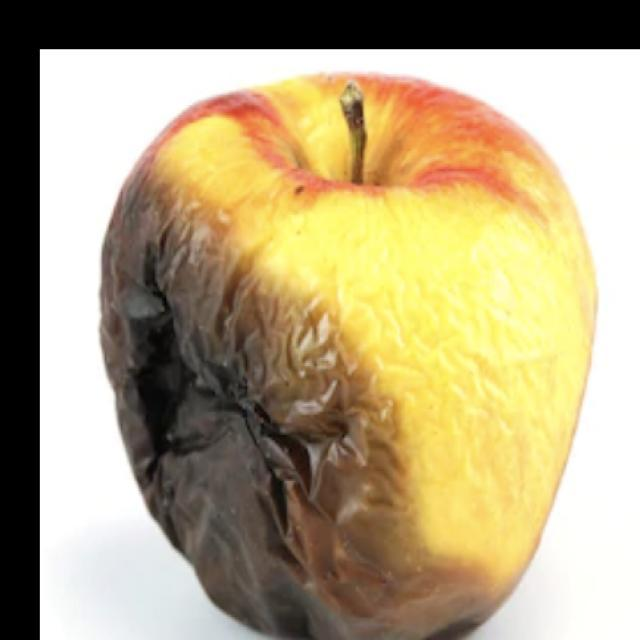Rotten: (79, 71, 573, 640)
